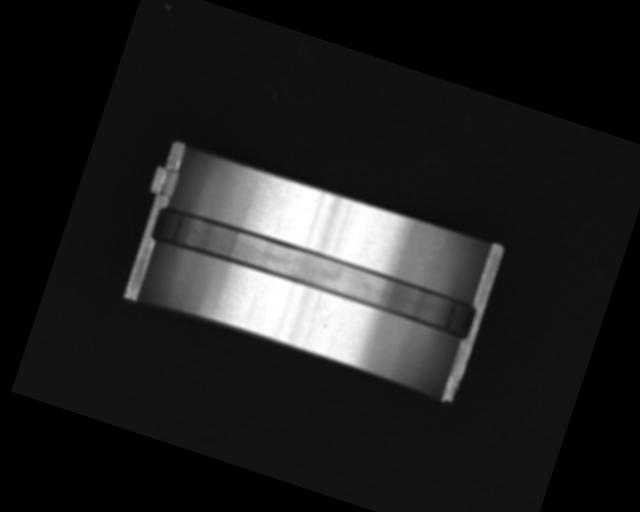gap: (147, 200, 480, 343)
